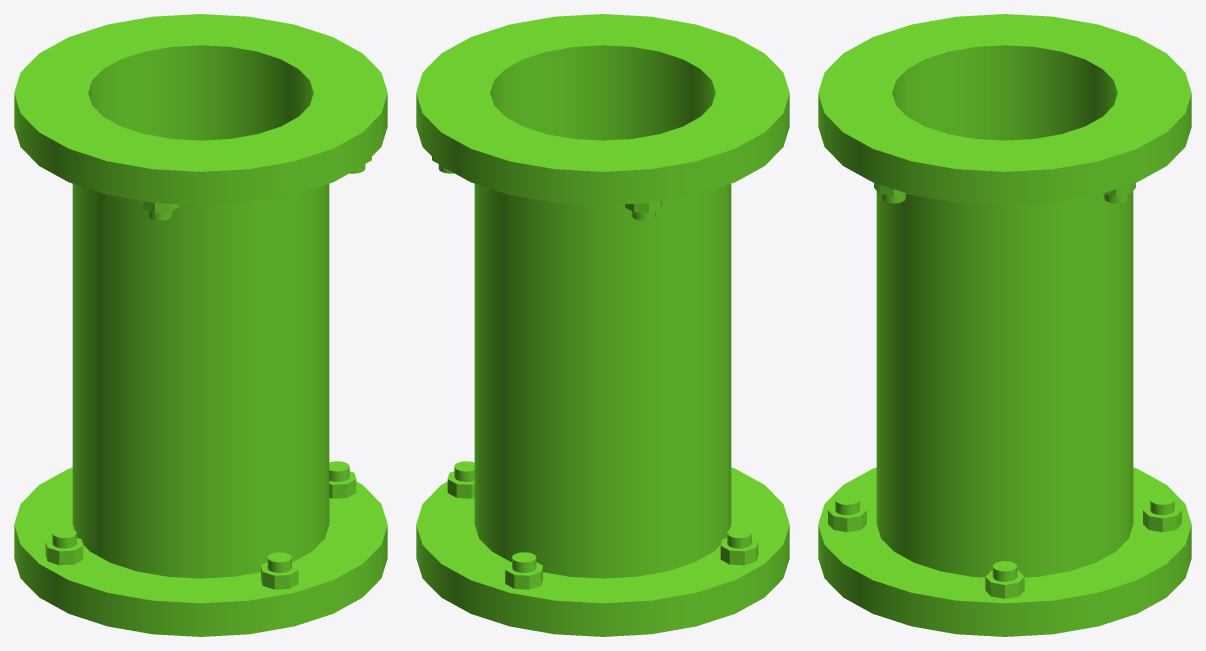
The model's file is Straight Pipe.fbx.
3 renders of one model, left to right at view 1: azimuth 30°, elevation 25°; view 2: azimuth 150°, elevation 25°; view 3: azimuth 270°, elevation 25°, orthographic.
Visible parts, largest first — view 1: Straight Pipe; view 2: Straight Pipe; view 3: Straight Pipe.
Part boxes in pixels (bbox=[...]): Straight Pipe: bbox=[14, 14, 387, 636]; Straight Pipe: bbox=[416, 14, 789, 636]; Straight Pipe: bbox=[818, 14, 1191, 636].
Size of the model in its own units: 109 by 150 by 109.
